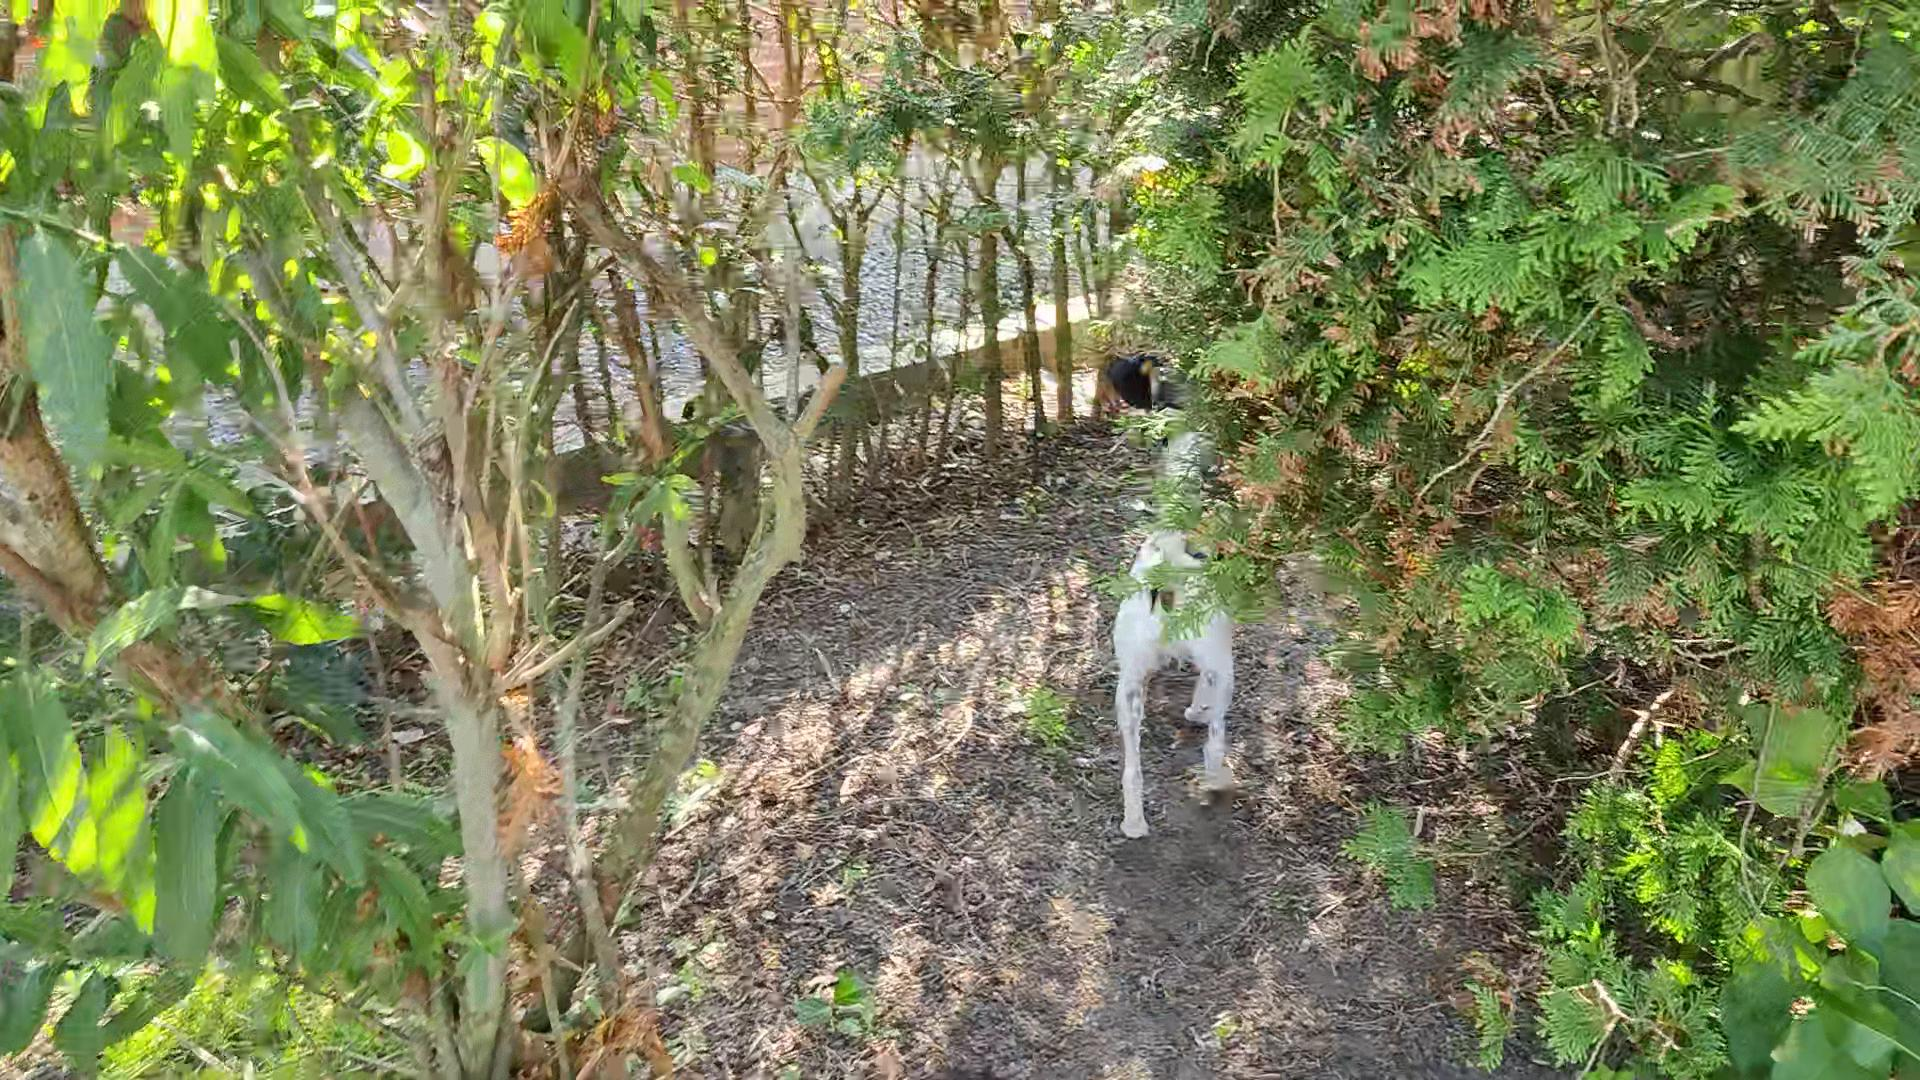Dog: (1069, 418, 1280, 851)
